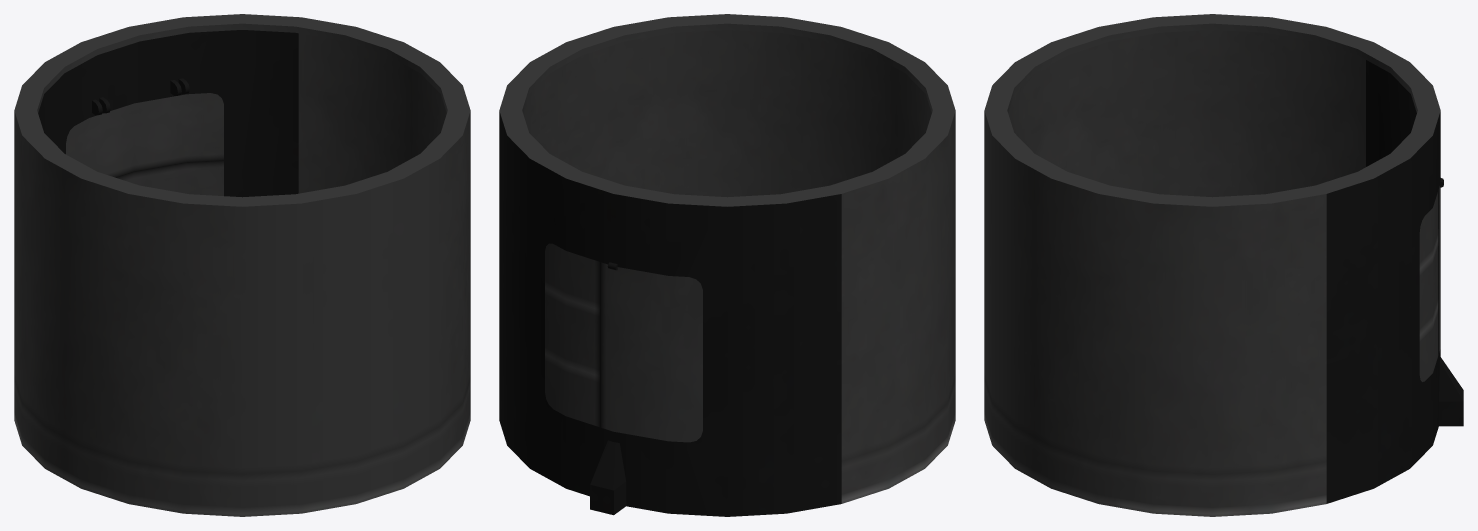
The model's file is rotanev_access_fuselage_s2_1.obj.
The picture shows the model from 3 angles, left to right: view 1: azimuth 30°, elevation 25°; view 2: azimuth 150°, elevation 25°; view 3: azimuth 270°, elevation 25°; orthographic projection.
Parts seen in each view (by area): view 1: 1; view 2: 1; view 3: 1.
Part boxes in pixels (x1,y1,x2,y2): 1: (14, 14, 470, 516); 1: (499, 14, 955, 516); 1: (984, 14, 1463, 516).
Size of the model in its own units: 2.5 by 1.88 by 2.62.
